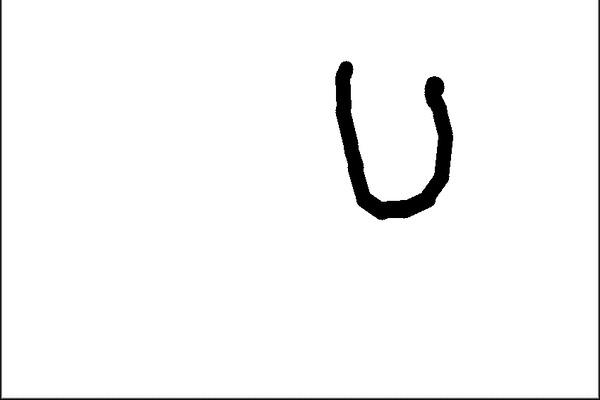U: (325, 51, 462, 226)
